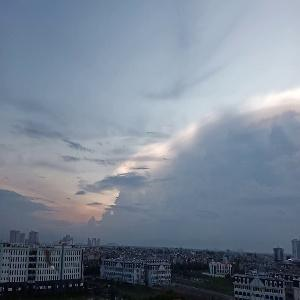drone: (14, 228, 78, 292)
